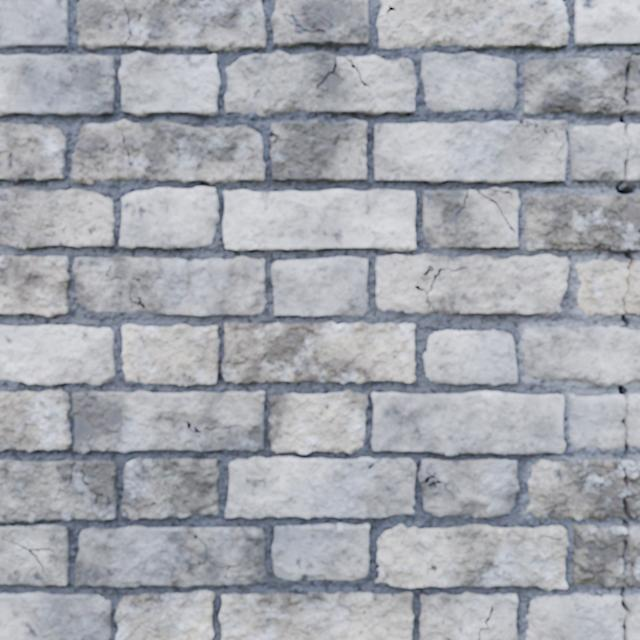broken_brick: (523, 52, 639, 114), (520, 326, 639, 385), (526, 458, 639, 520), (525, 194, 639, 251), (526, 593, 625, 639), (571, 524, 639, 588), (569, 123, 639, 182), (569, 394, 639, 449), (576, 259, 639, 316), (625, 594, 639, 639)
crack: (375, 524, 568, 590), (225, 50, 417, 116), (70, 120, 265, 184), (371, 391, 565, 455), (373, 120, 567, 183), (222, 321, 415, 383), (223, 189, 415, 251), (72, 391, 264, 453), (225, 456, 416, 518), (375, 254, 569, 315), (74, 526, 266, 587), (73, 256, 266, 316), (77, 0, 266, 51), (376, 0, 569, 49), (219, 591, 413, 639), (0, 459, 118, 522), (0, 54, 115, 116), (0, 187, 114, 249), (0, 325, 114, 385), (119, 51, 220, 117), (268, 390, 367, 453), (119, 187, 218, 249), (270, 119, 367, 182), (121, 458, 218, 520), (418, 458, 519, 517), (122, 324, 219, 385), (423, 188, 519, 248), (421, 52, 516, 112), (271, 257, 367, 316), (272, 523, 369, 580), (423, 329, 517, 385), (0, 592, 111, 639), (115, 590, 214, 639), (419, 592, 517, 639), (271, 0, 370, 46), (0, 390, 72, 451), (0, 255, 70, 316), (0, 525, 68, 586), (0, 123, 66, 182), (0, 0, 68, 48), (575, 0, 639, 46), (615, 159, 636, 194), (619, 584, 632, 639), (615, 414, 627, 460), (619, 277, 629, 328), (621, 539, 628, 572), (618, 384, 628, 405), (619, 114, 629, 133), (624, 251, 632, 271), (624, 64, 632, 83), (622, 498, 629, 516), (622, 87, 628, 107), (590, 96, 614, 100), (622, 468, 627, 485), (622, 518, 629, 530), (573, 138, 574, 173), (576, 535, 577, 555), (630, 53, 639, 55)
